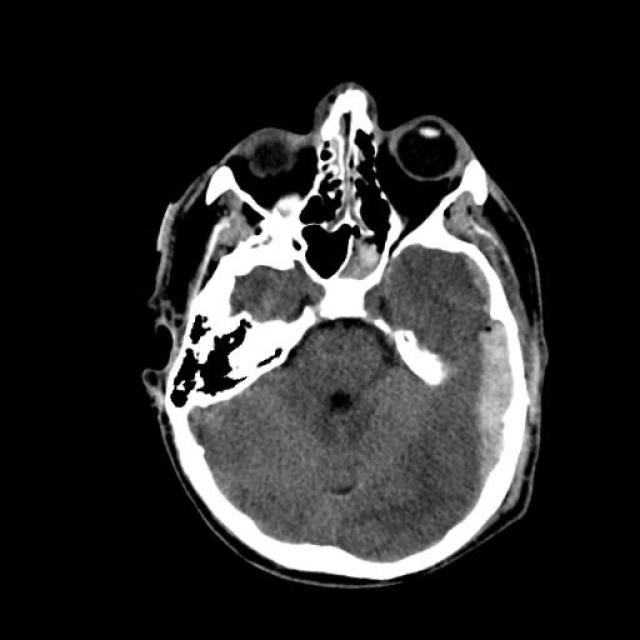Subdural: (446, 306, 570, 504)
